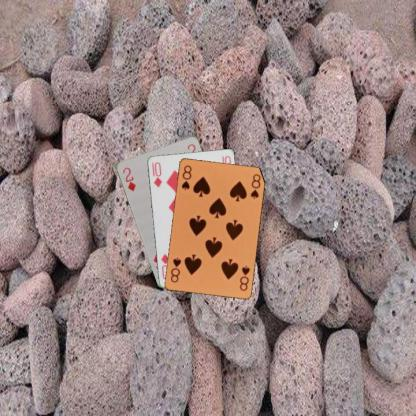10d: (149, 160, 163, 188)
2d: (120, 165, 137, 192)
8s: (179, 162, 193, 192), (237, 263, 251, 292)
